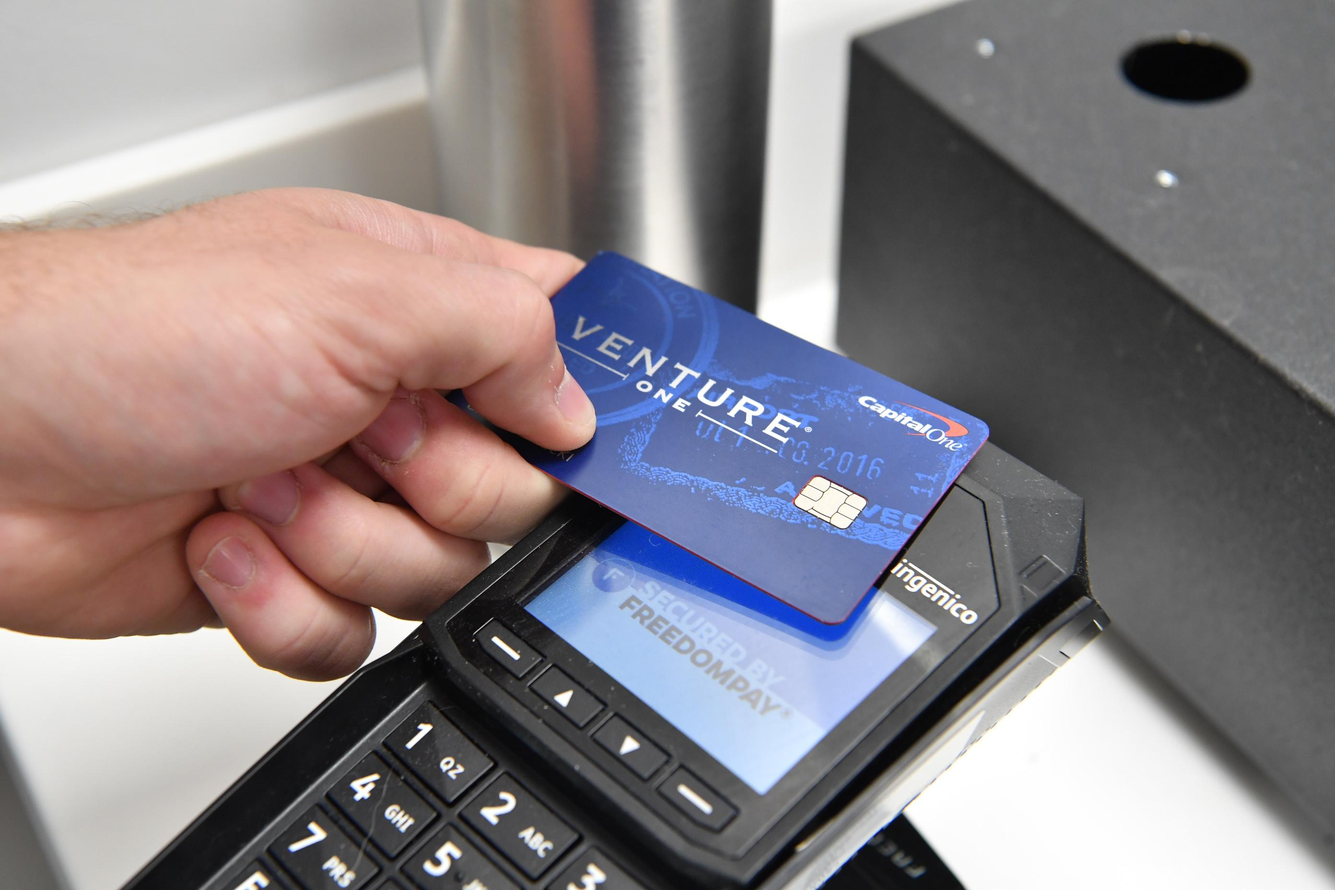Credit_card: (506, 252, 988, 624)
